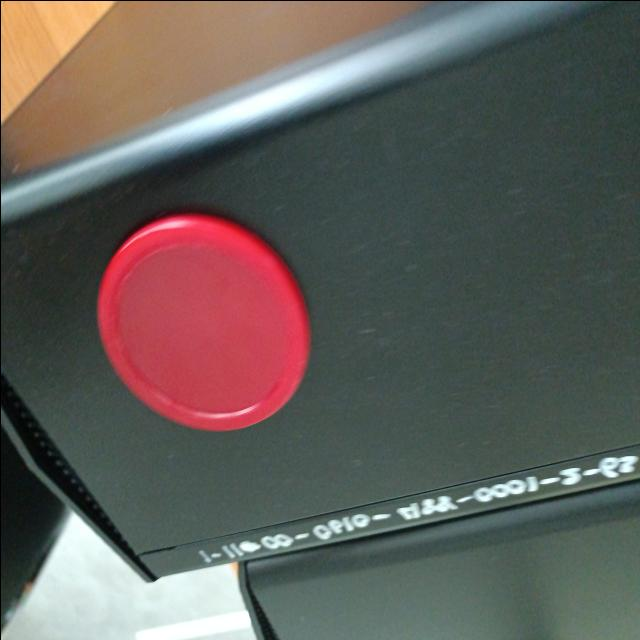chip: (94, 210, 312, 436)
